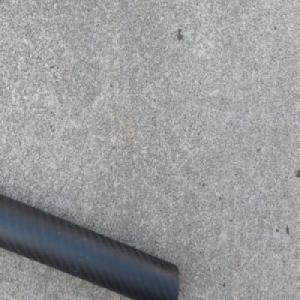LuggagePart: (0, 189, 181, 300)
